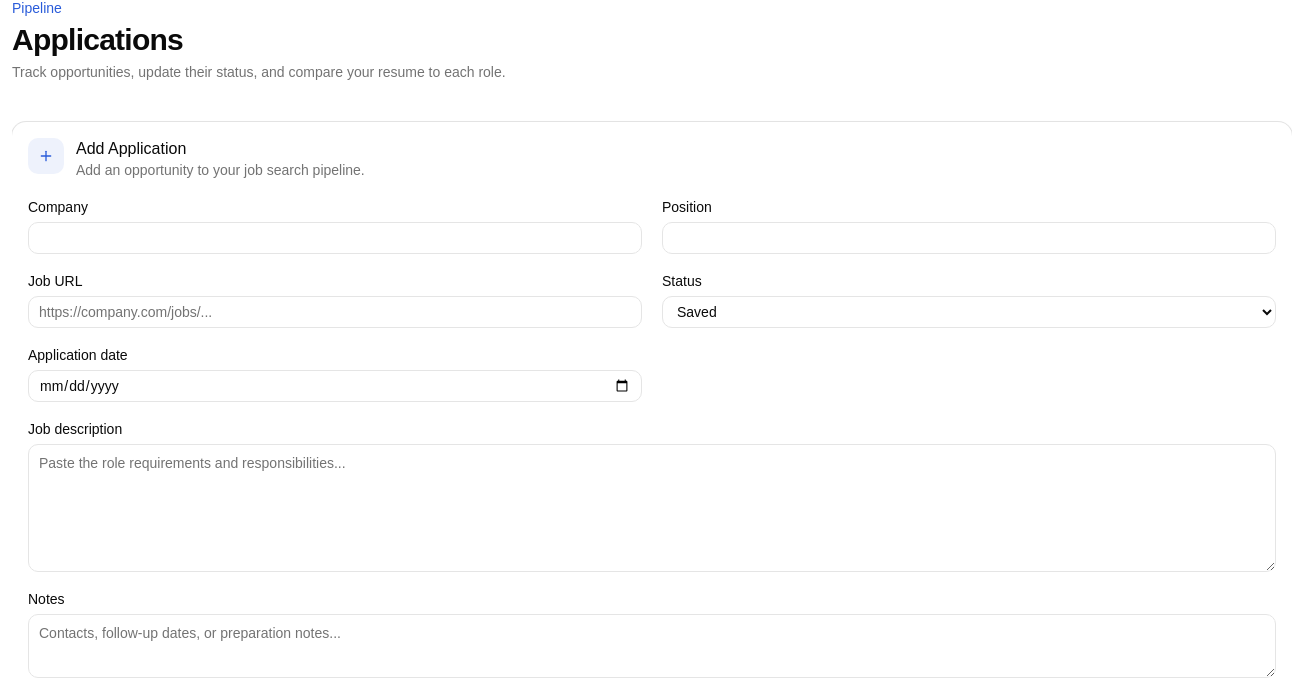
Test case: Applications › adds a newly created application to the list
Type "Acme" into the field labelled "Company" at (335, 238), box left=28, top=222, right=642, bottom=254
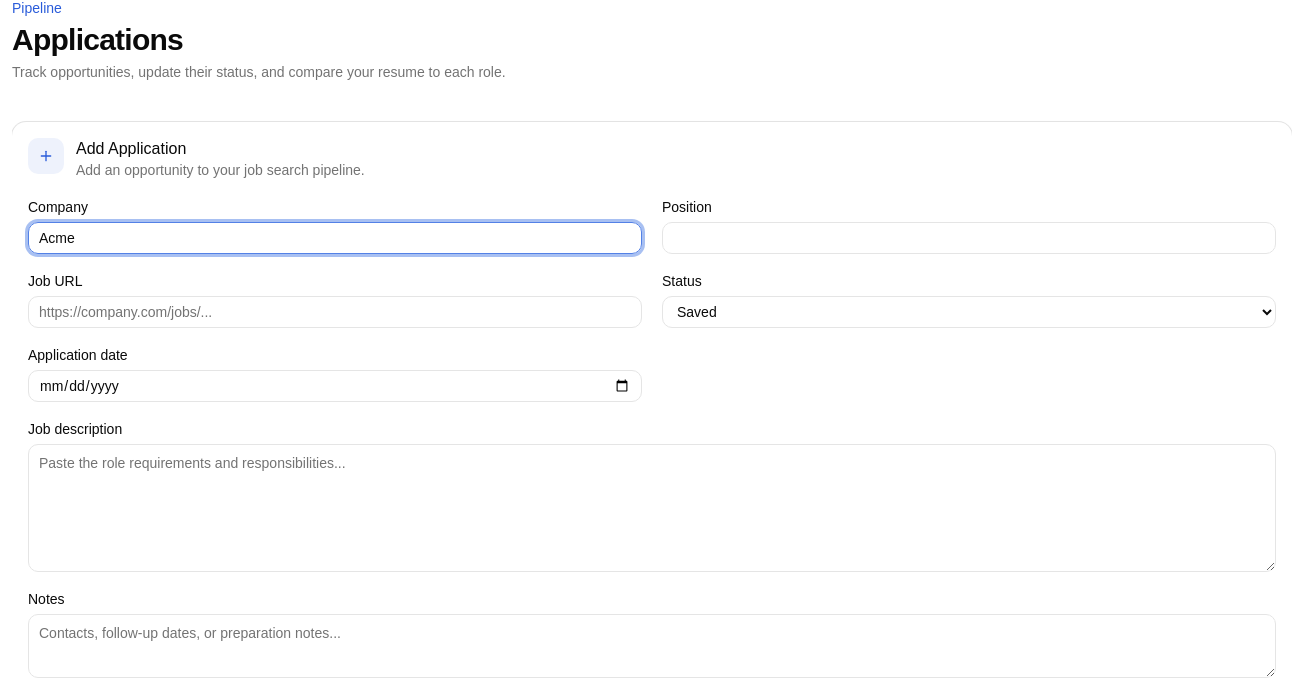
Type "Backend Engineer" into the field labelled "Position" at (969, 238), box left=662, top=222, right=1276, bottom=254
(page scrolled)
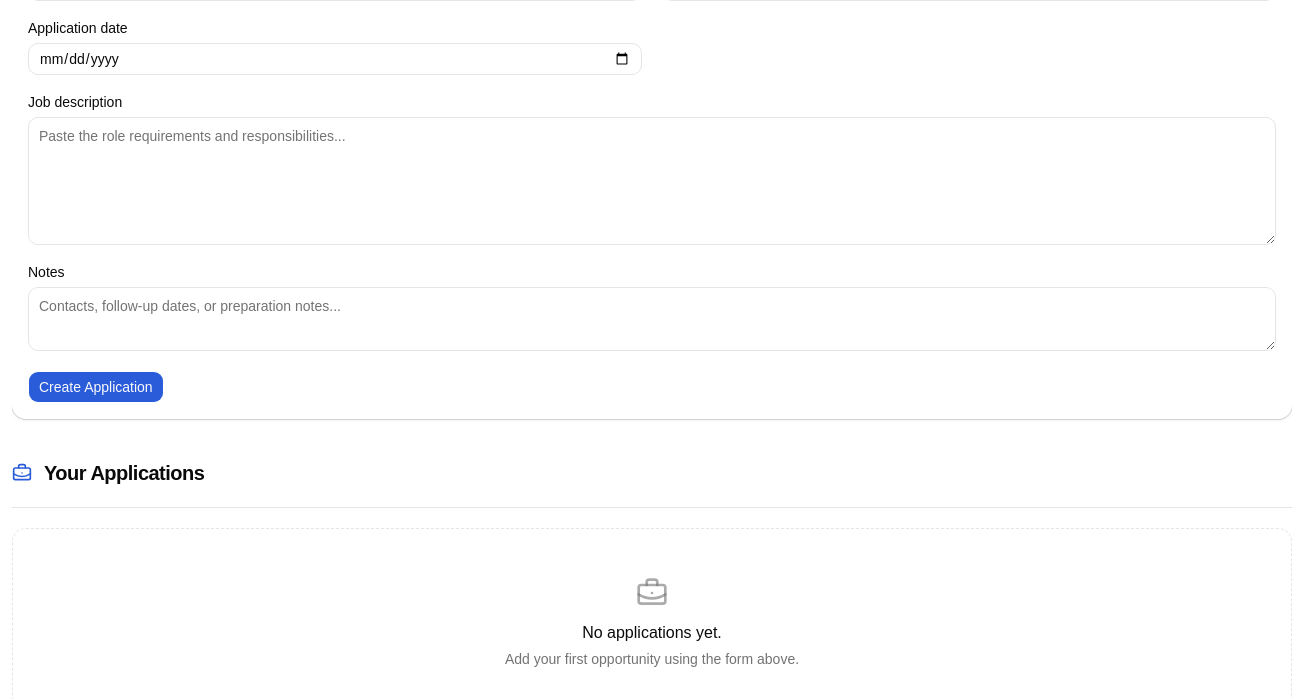
Click the button "Create Application" at (96, 387), box left=28, top=371, right=164, bottom=403
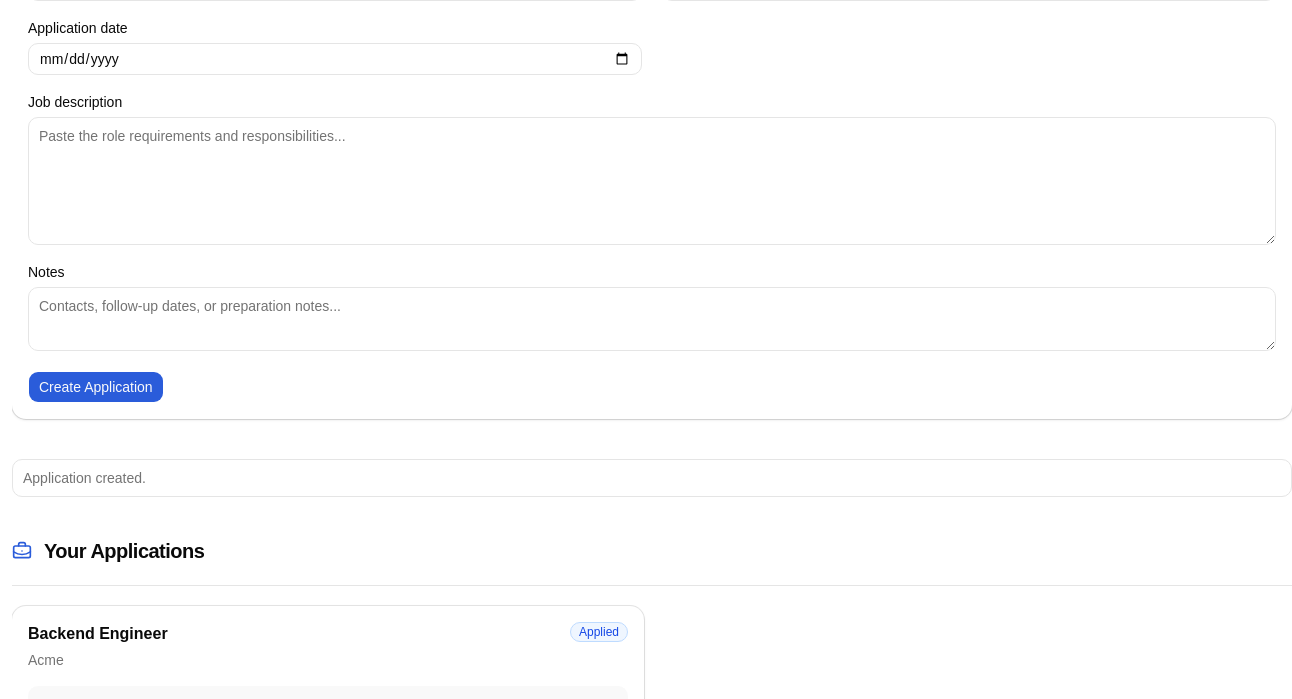
Expected: the heading "Backend Engineer" is shown, left=28, top=622, right=168, bottom=646
